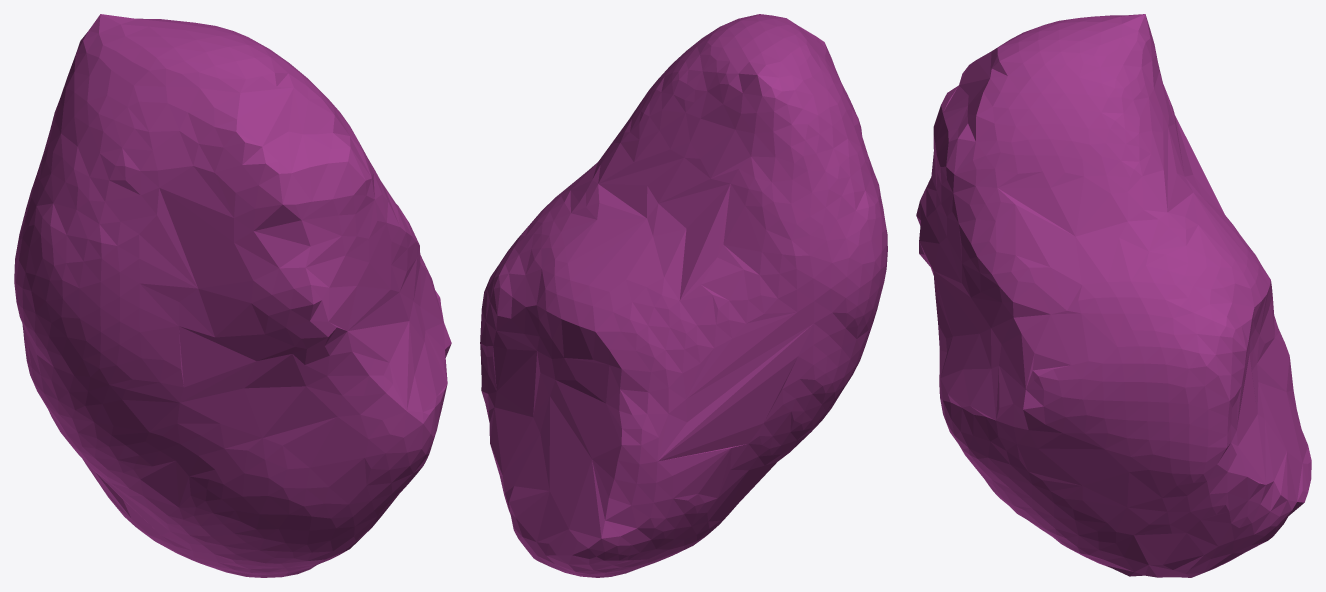
Rendered from Model_172_RH__Central_amygdaloid_nucleus_(Ce).obj.
3 views of the same model, side by side, from view 1: azimuth 30°, elevation 25°; view 2: azimuth 150°, elevation 25°; view 3: azimuth 270°, elevation 25° (orthographic). The views are drawn at different scales.
Size of the model in its own units: 1.7 by 2.41 by 1.78.
